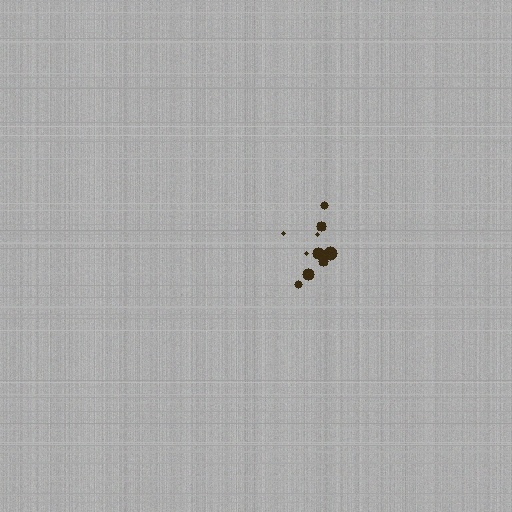contamination: (277, 197, 341, 292)
